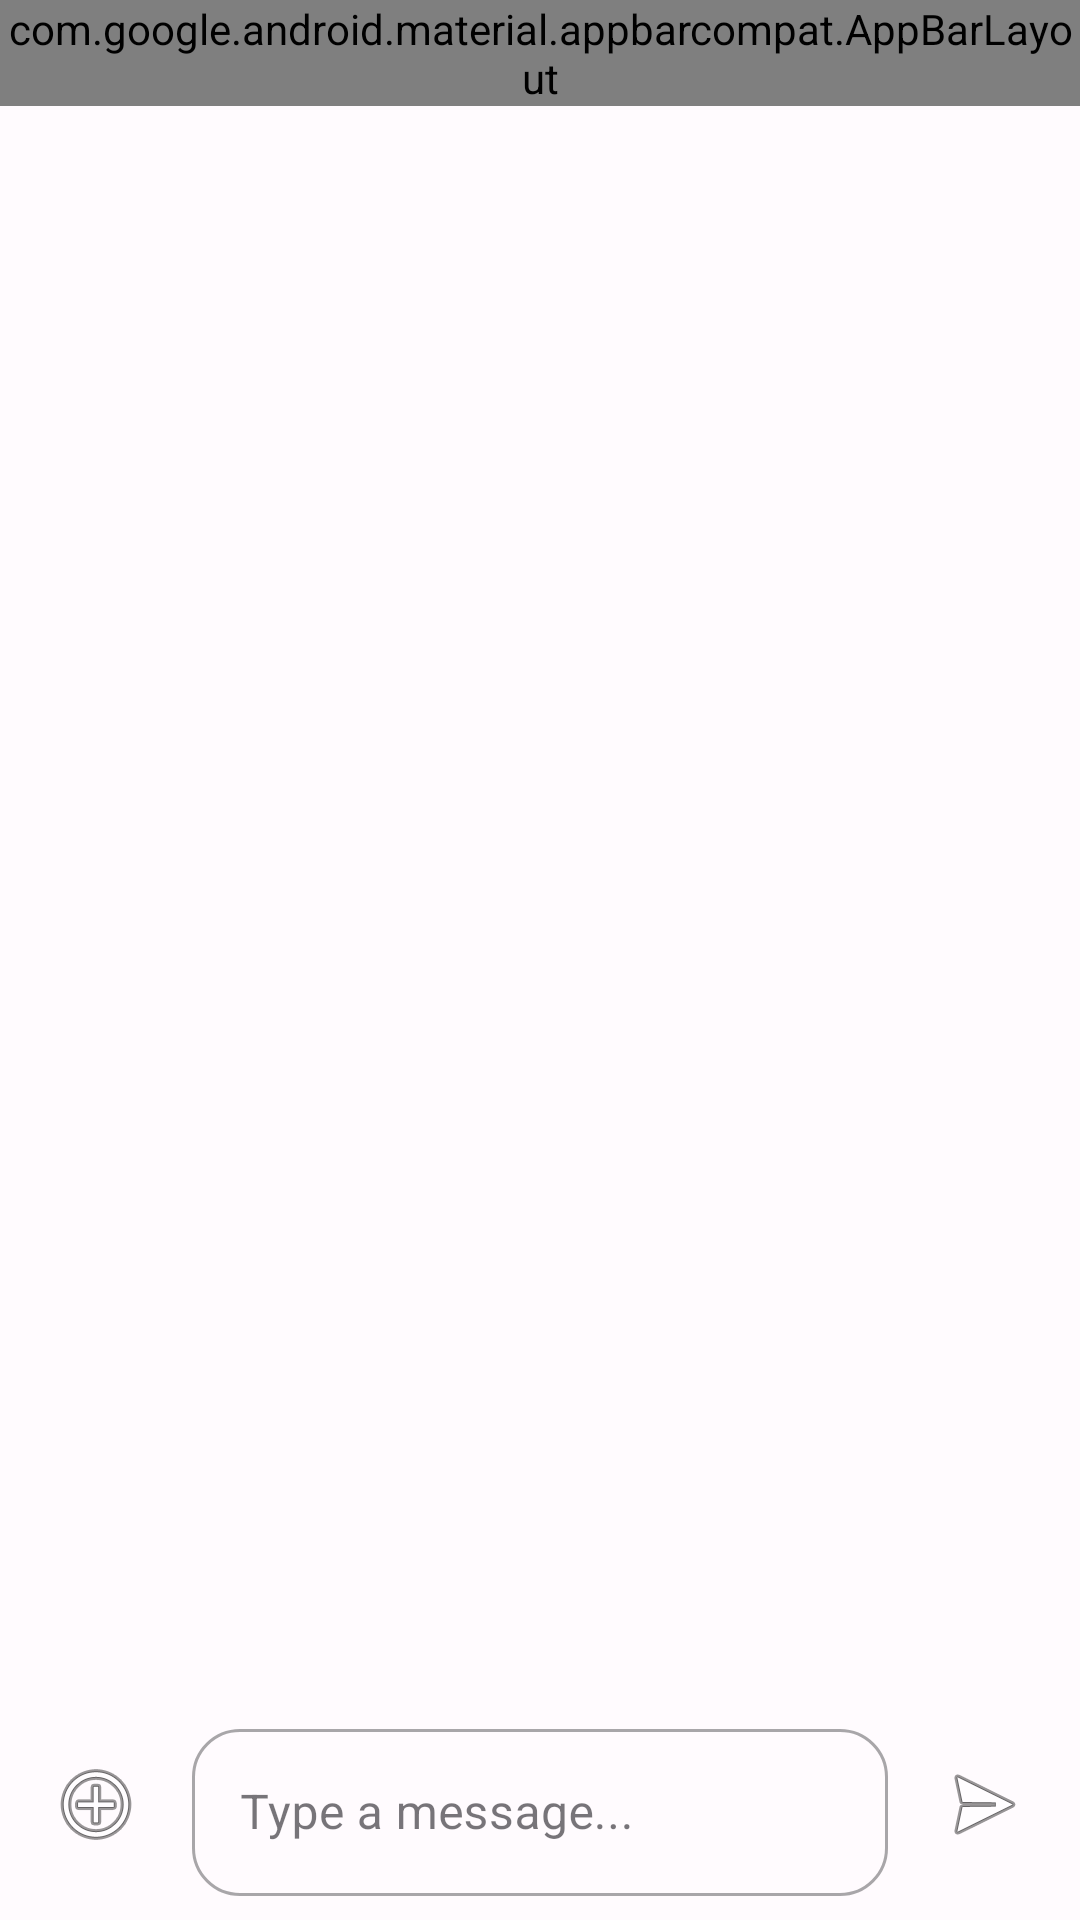

Icons on this 1080w x 1920h Android screen, each with the point to tap as [x,y]:
Attach: [96,1804]
Send: [985,1804]
